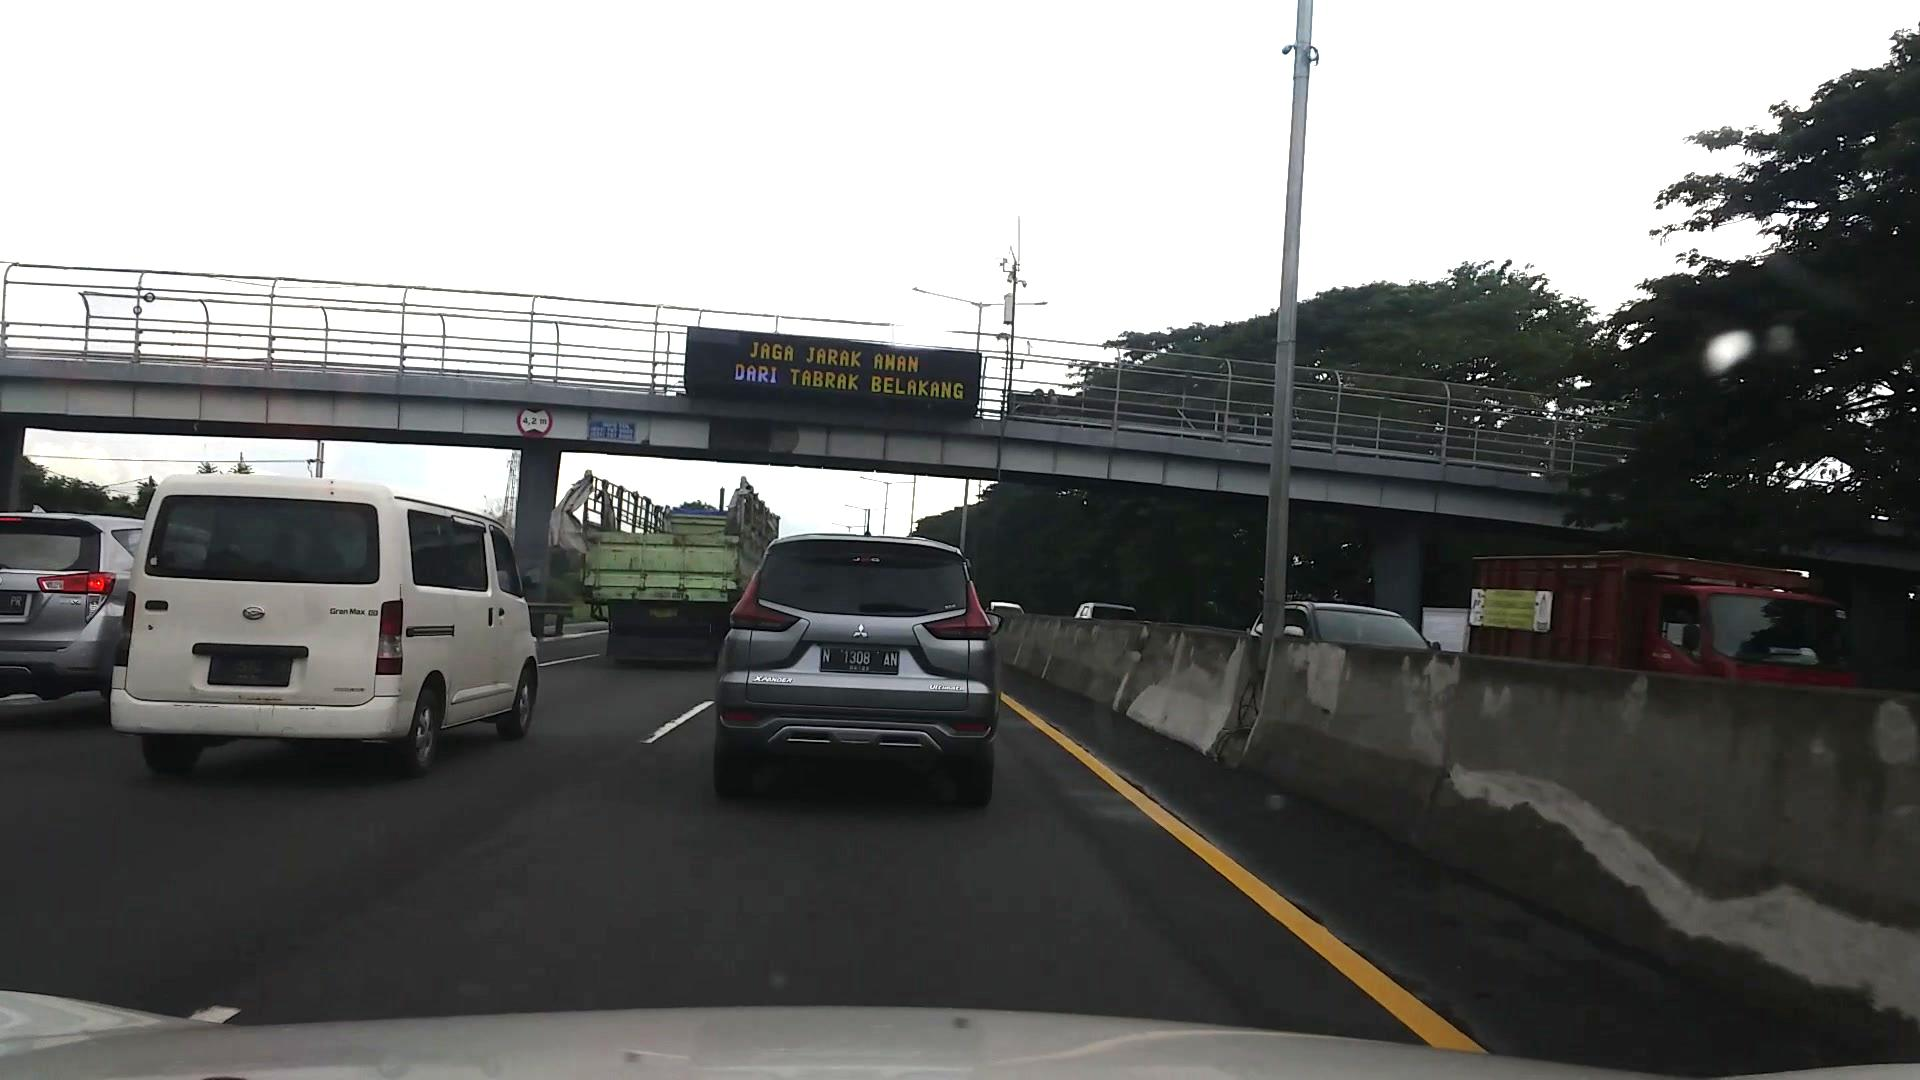plate_positive: (820, 645, 899, 674)
